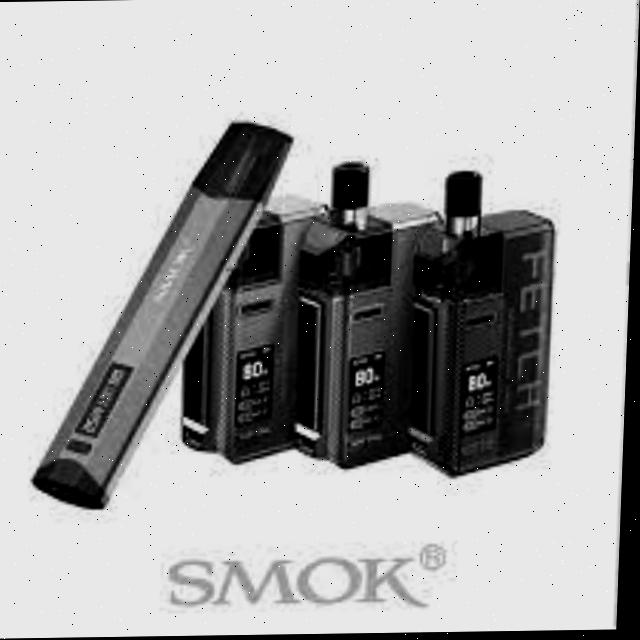vape: (33, 120, 296, 510), (291, 160, 448, 473), (405, 170, 560, 481)
